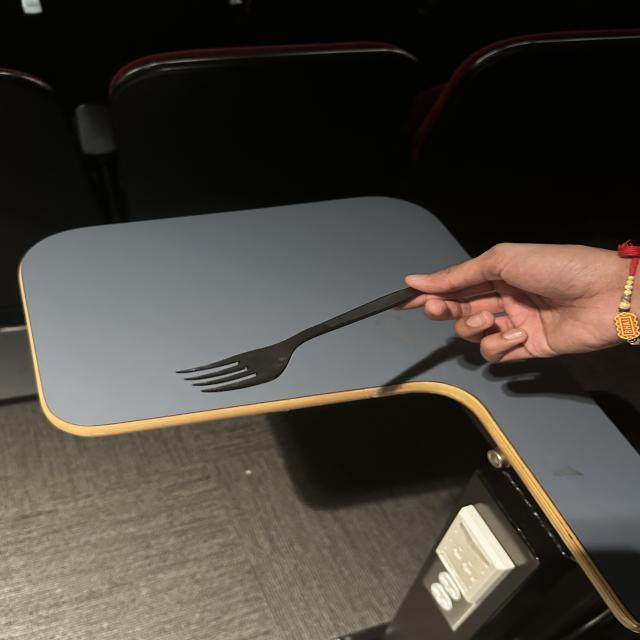fork: (164, 289, 466, 404)
